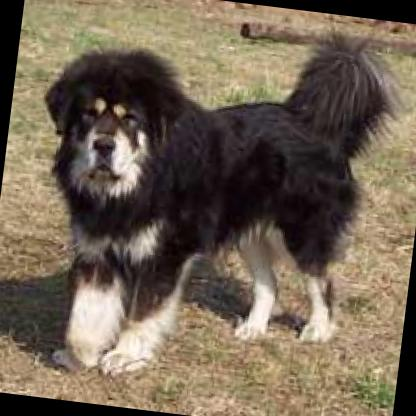Tibetan_mastiff: (9, 0, 416, 403)
